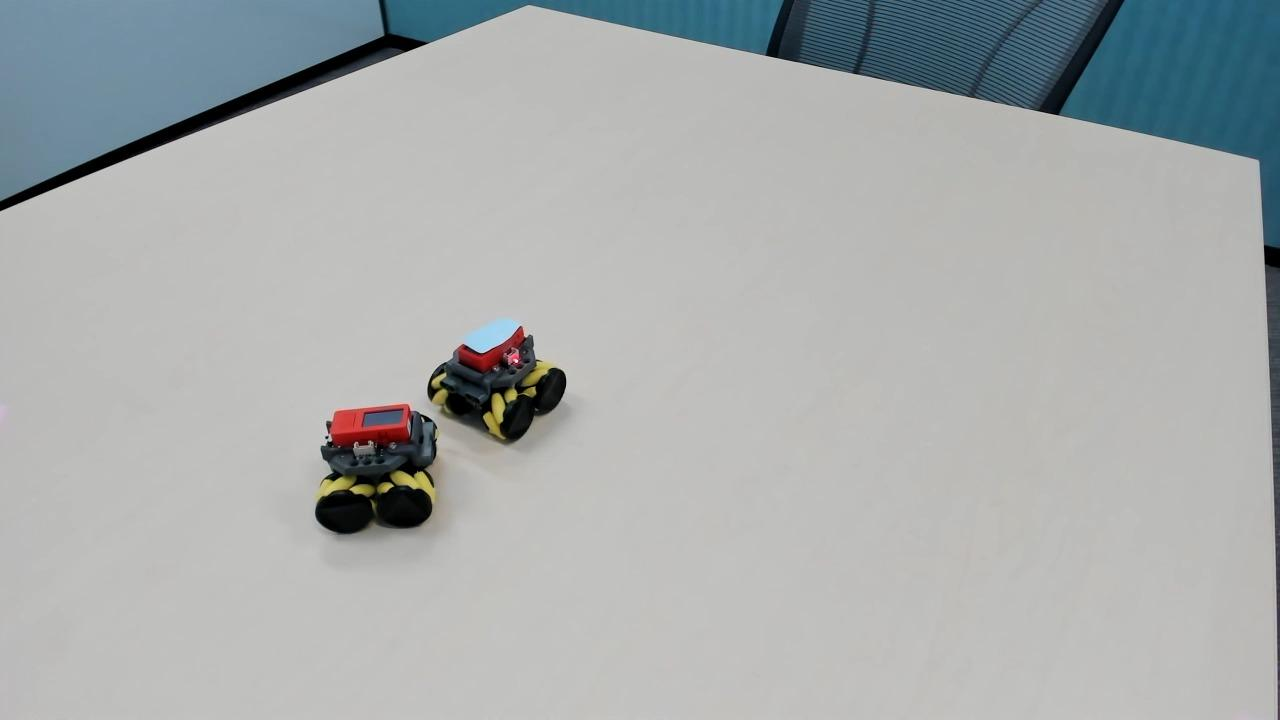B-Robot: (423, 315, 576, 453)
R-Robot: (301, 394, 439, 543)
